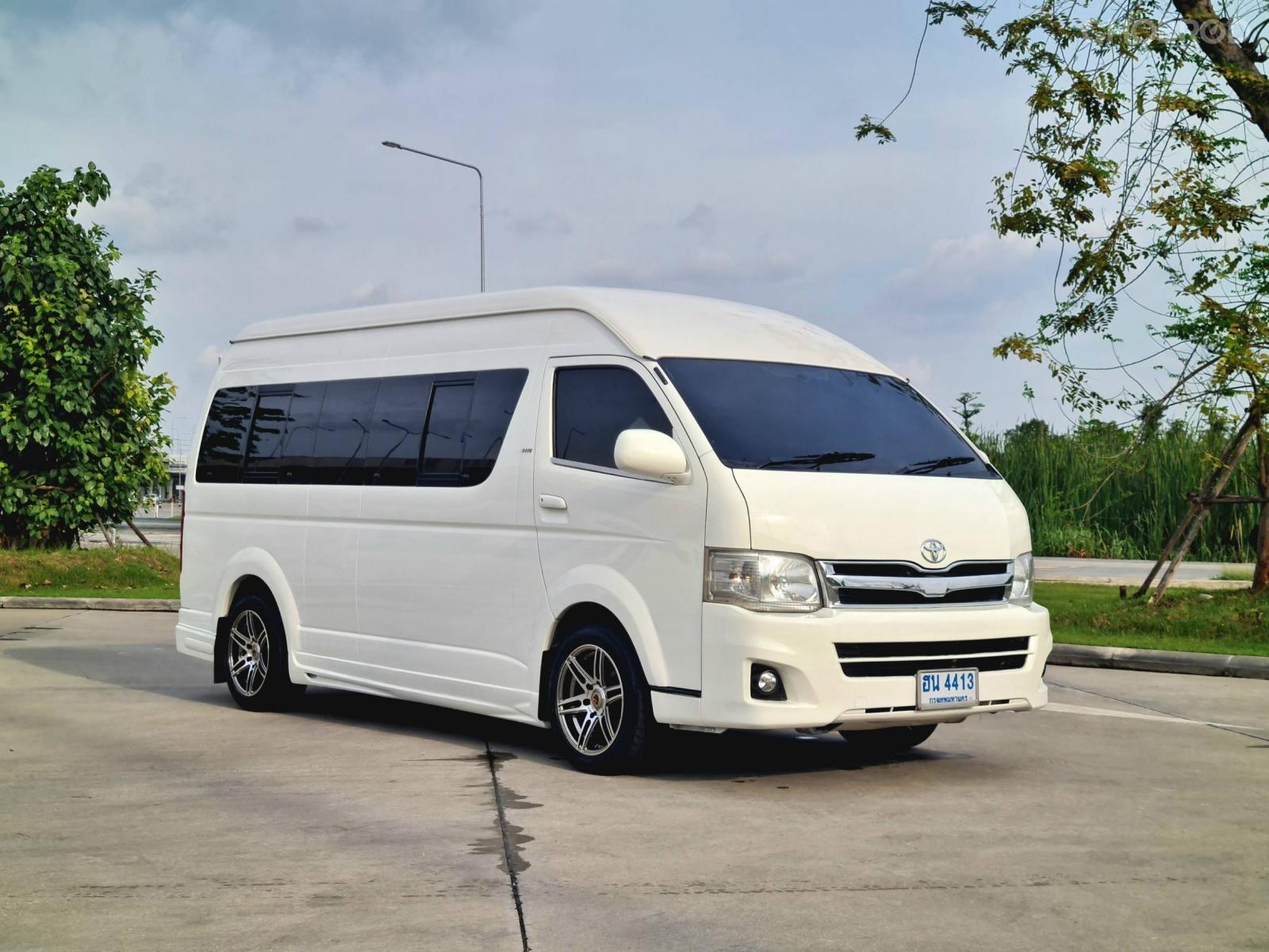license-plate: (912, 666, 981, 715)
